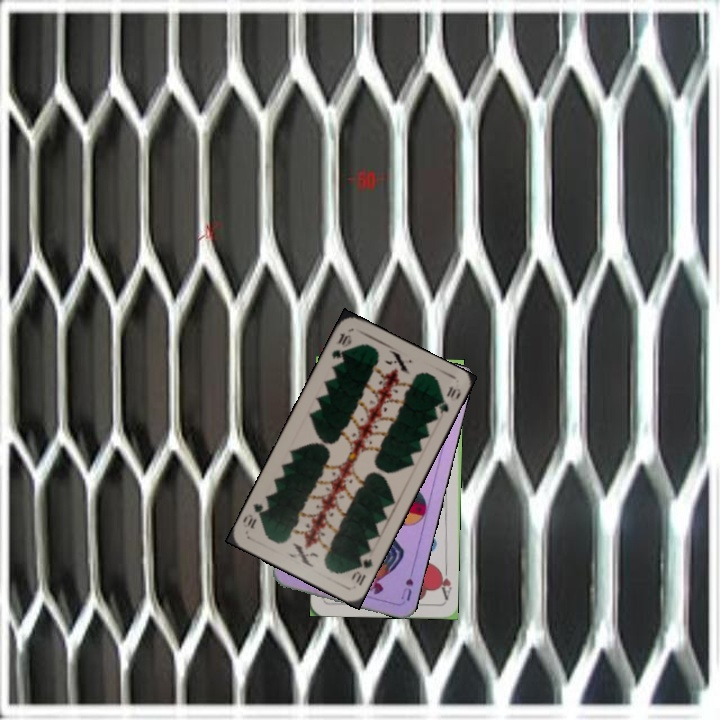G10: (328, 329, 354, 368), (347, 555, 375, 589)
HA: (434, 562, 454, 602)
SU: (397, 563, 416, 604)
